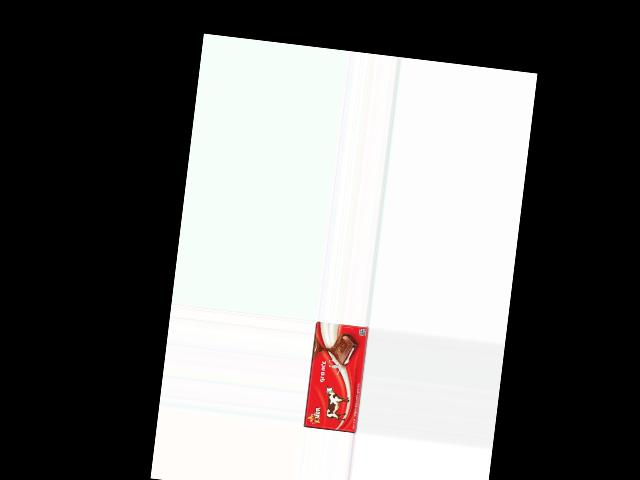chocolate: (303, 321, 369, 435)
